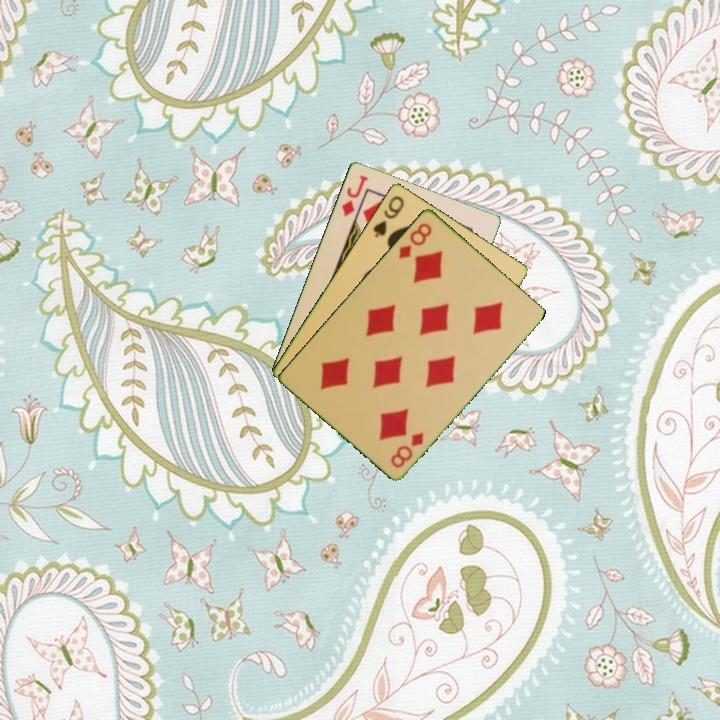8d: (395, 219, 435, 262), (387, 428, 427, 471)
9s: (369, 191, 407, 240)
Jd: (338, 171, 371, 219)
